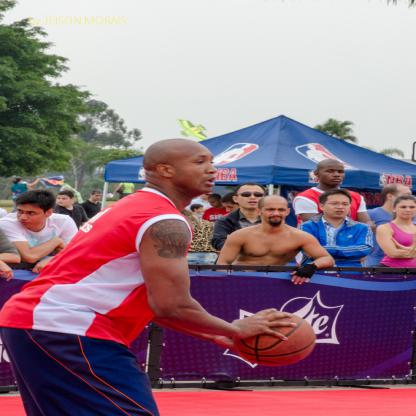Ball: (235, 311, 317, 366)
